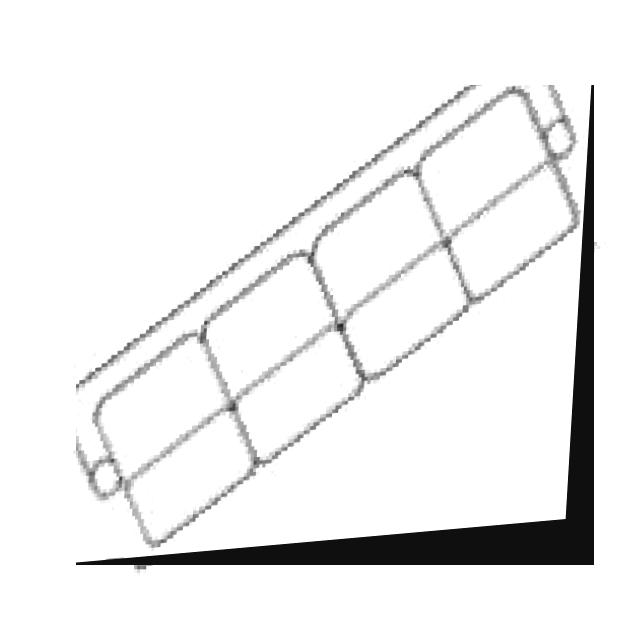sofa: (76, 85, 594, 566)
